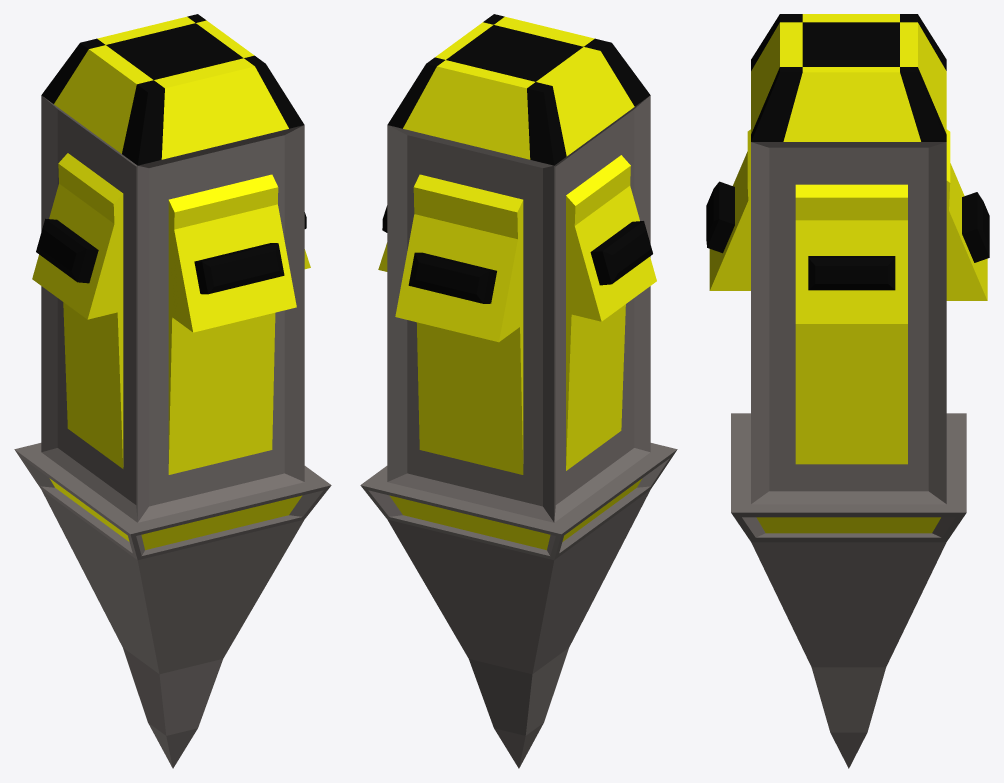
The model's file is RefillStation.fbx.
3 views of the same model, side by side, from view 1: azimuth 30°, elevation 25°; view 2: azimuth 150°, elevation 25°; view 3: azimuth 270°, elevation 25° (orthographic).
Parts seen in each view (by area): view 1: Cube; view 2: Cube; view 3: Cube.
Boxes of the visible parts, x1,y1,x2,y2 form: Cube: (14,14,331,768); Cube: (360,14,677,768); Cube: (706,14,989,768).
Size of the model in its own units: 1.37 by 4 by 1.42.
